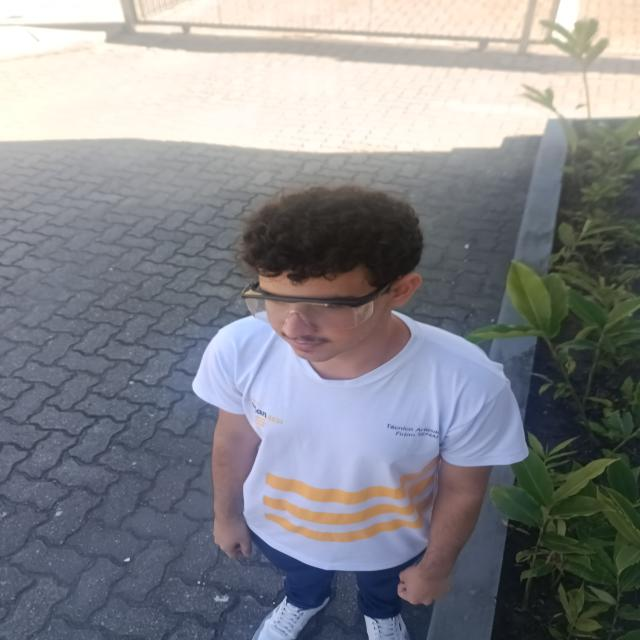oculos-epi: (241, 282, 391, 329)
